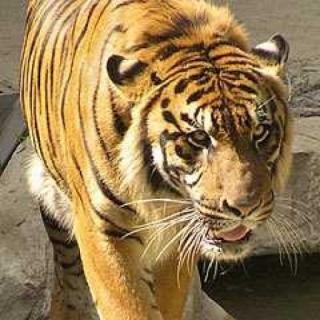Tiger: (14, 0, 310, 320)
